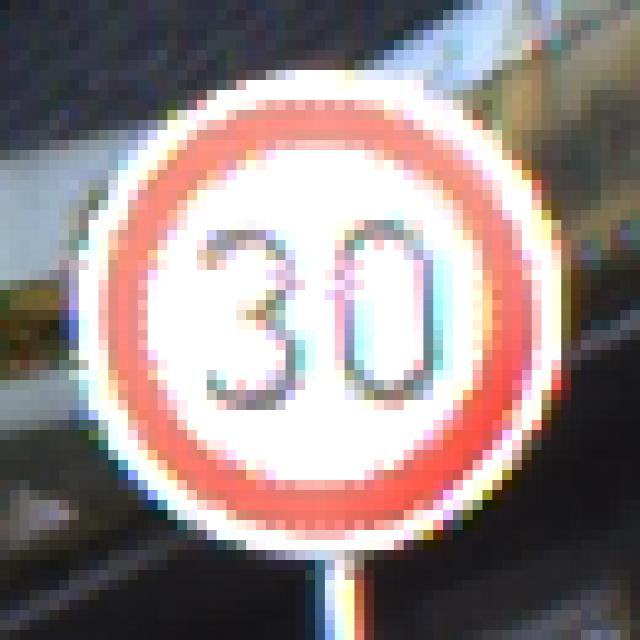Speed Limit -30-: (54, 45, 586, 585)
